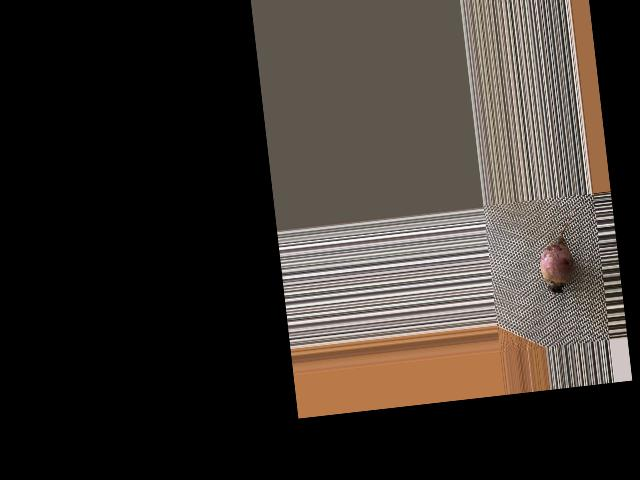beet: (534, 205, 591, 297)
